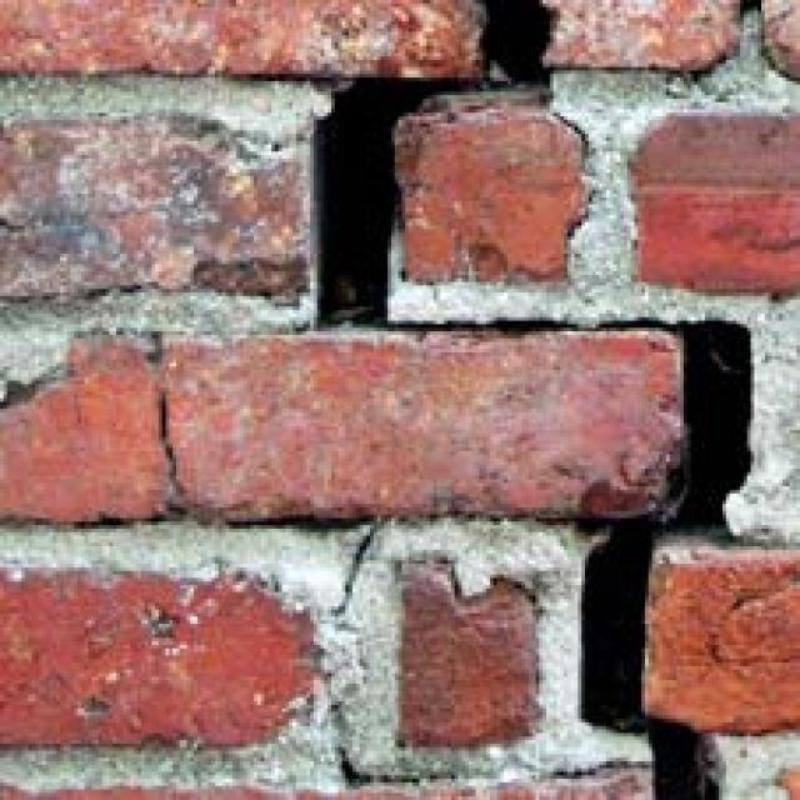crack: (581, 322, 752, 800), (316, 0, 550, 324), (384, 320, 681, 337), (331, 520, 381, 616)
